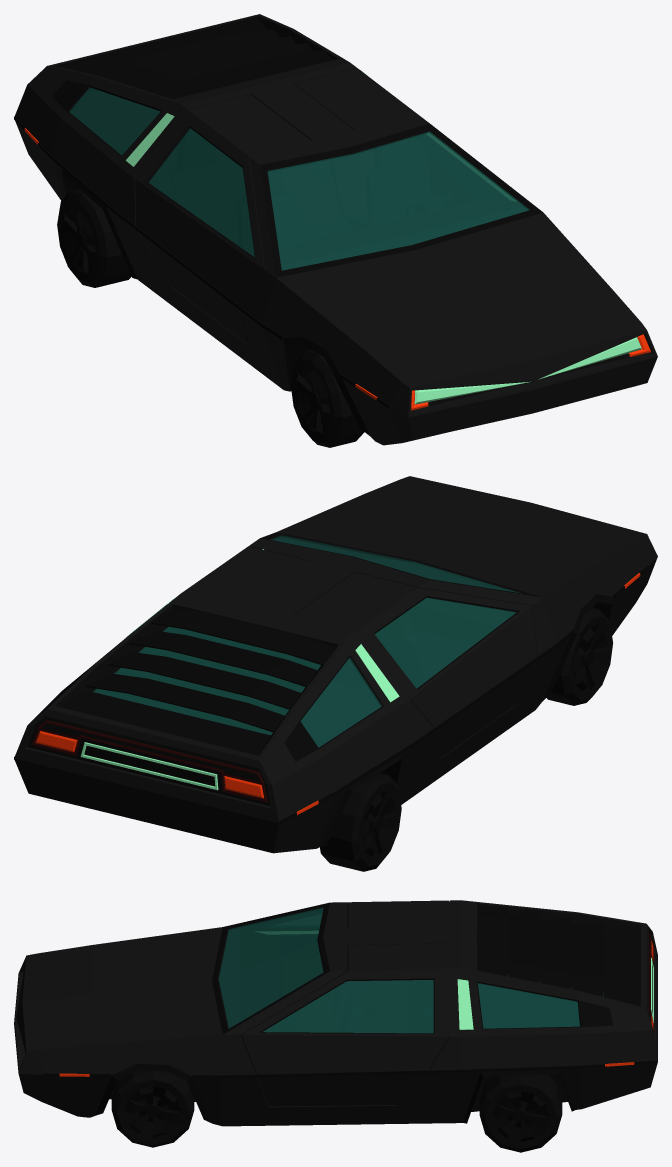
Rendered from SciFiCar_04.FBX.
3 views of the same model, one above another, from view 1: azimuth 30°, elevation 25°; view 2: azimuth 150°, elevation 25°; view 3: azimuth 270°, elevation 25° (orthographic). The views are drawn at different scales.
Parts seen in each view (by area): view 1: SportsCar_04, door_r, seat_b-m, door_l, wheel_b_r, wheel_f_r, seat_f-l, seat_f-r, headLights; view 2: SportsCar_04, door_r, wheel_b_r, door_l, wheel_f_r, seat_f-r, tailLights, backupLights, seat_b-m, indicatorLights_r; view 3: SportsCar_04, door_l, door_r, wheel_b_l, wheel_f_l, seat_b-m, seat_f-r, seat_f-l.
Boxes of the visible parts, box(x1,y1,x2,y2) form: SportsCar_04: box(14, 14, 657, 445); door_r: box(134, 94, 311, 343); seat_b-m: box(170, 131, 374, 244); door_l: box(294, 68, 514, 208); wheel_b_r: box(57, 189, 131, 287); wheel_f_r: box(290, 349, 364, 447); seat_f-l: box(365, 139, 431, 226); seat_f-r: box(237, 170, 306, 255); headLights: box(414, 337, 641, 404); SportsCar_04: box(14, 476, 657, 853); door_r: box(295, 572, 538, 758); wheel_b_r: box(320, 773, 401, 871); door_l: box(166, 546, 311, 646); wheel_f_r: box(546, 607, 612, 705); seat_f-r: box(375, 612, 443, 687); tailLights: box(31, 720, 267, 802); backupLights: box(80, 742, 218, 790); seat_b-m: box(179, 629, 368, 689); indicatorLights_r: box(224, 573, 640, 814); SportsCar_04: box(14, 900, 657, 1126); door_l: box(241, 943, 449, 1106); door_r: box(243, 900, 449, 995); wheel_b_l: box(479, 1074, 562, 1152); wheel_f_l: box(111, 1070, 194, 1147); seat_b-m: box(364, 980, 432, 1032); seat_f-r: box(285, 971, 351, 1021); seat_f-l: box(338, 981, 364, 1032).
Size of the model in its own units: 27.75 by 61.09 by 16.65.
